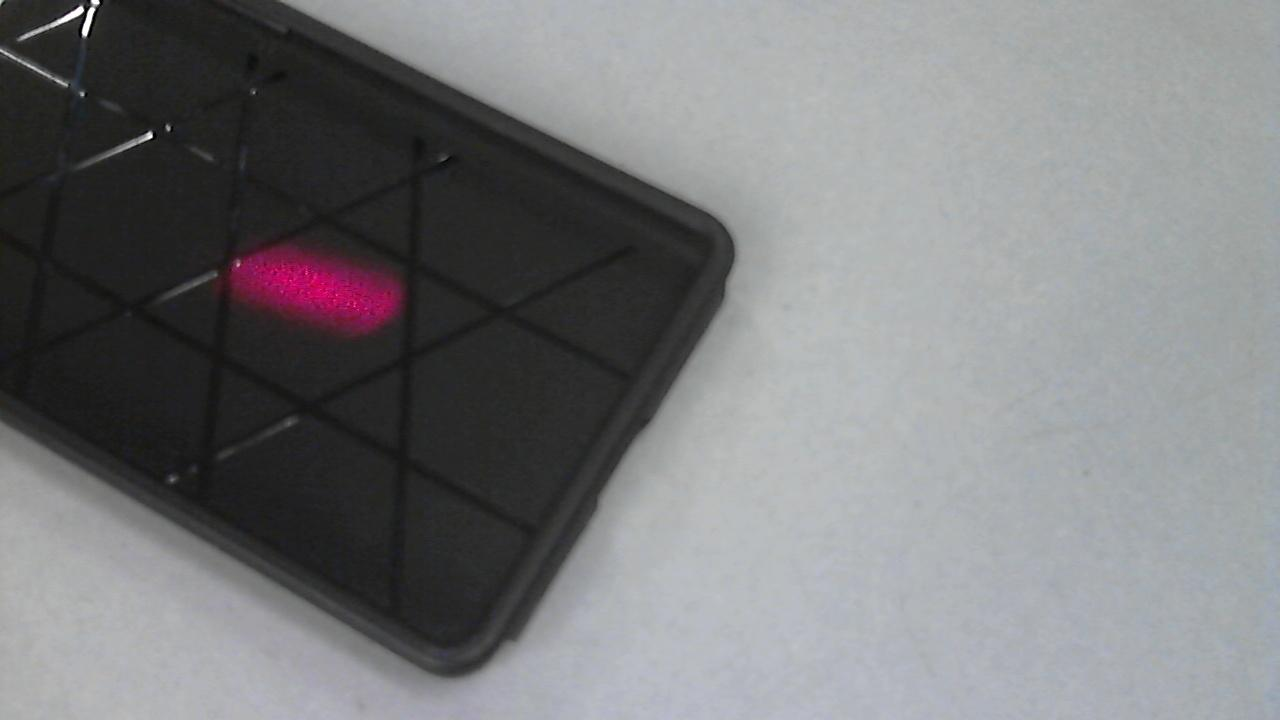Object protective phone case - Material rubber - pdfname asdfeafgta: (198, 219, 417, 346)
